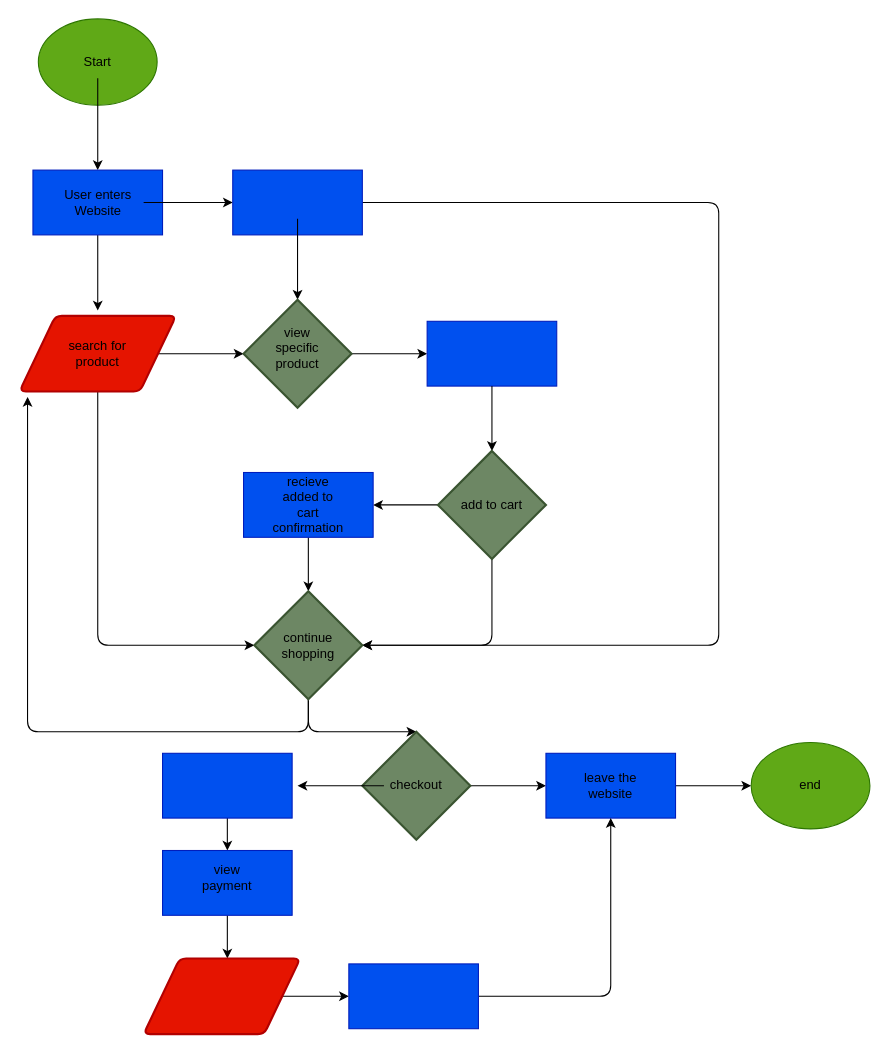
Some shapes in this 889 by 1054 pixel diagram are drawn without their labels. The centre of each missing label's shape, as x and y in pixels:
explore products: pixel 297 202
input payment info: pixel 221 996
order confirmation and email: pixel 413 996
product webpage opens: pixel 491 353
view cart: pixel 226 785
